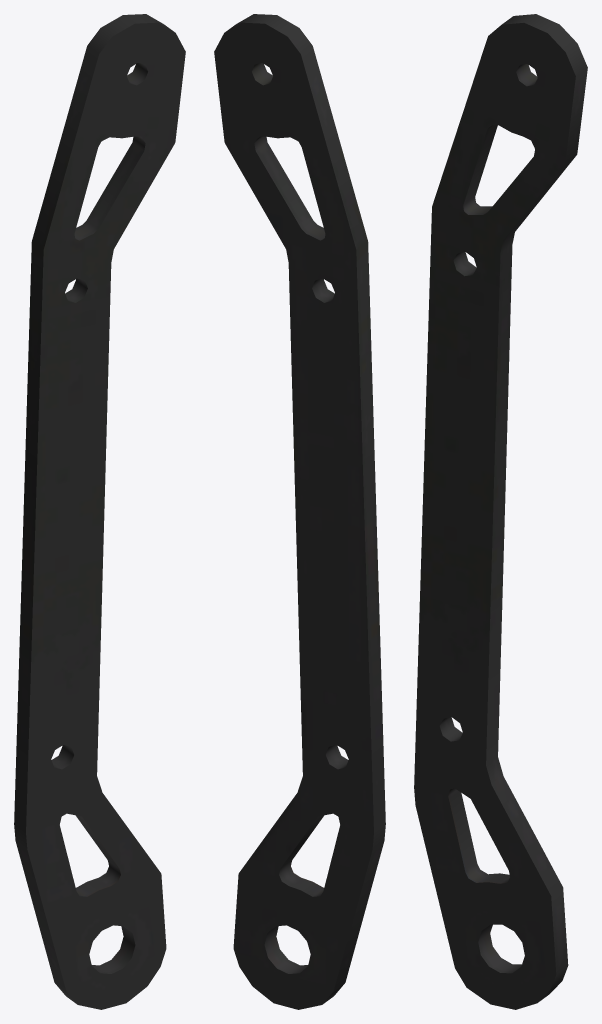
File: rod_2.dae
3 renders of one model, left to right at view 1: azimuth 30°, elevation 25°; view 2: azimuth 150°, elevation 25°; view 3: azimuth 330°, elevation 25°, orthographic.
Parts seen in each view (by area): view 1: rod_2; view 2: rod_2; view 3: rod_2.
Part boxes in pixels (x1=…): rod_2: x1=14, y1=14, x2=185, y2=1009; rod_2: x1=214, y1=14, x2=385, y2=1009; rod_2: x1=414, y1=14, x2=587, y2=1009.
Size of the model in its own units: 0.0231 by 0.00297 by 0.1348.
